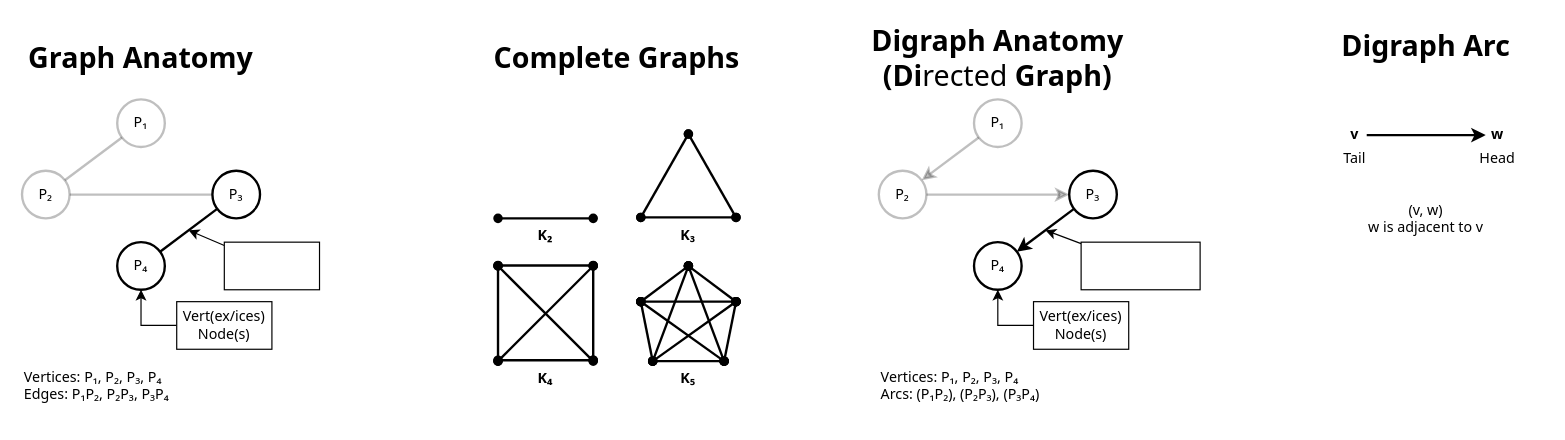
Some shapes in this 1565 by 440 pixel diagram are drawn without their labels. The shapes that lost their labels are listed below. From the top down, each one's box as (x1, y1, x2, y2) in pixels, then its label:
(223, 241, 320, 290): Edge(s)
(1080, 241, 1200, 290): Directed Edge(s) Arc(s)
